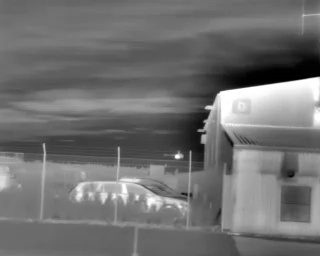HELICOPTER: (160, 148, 186, 162)
